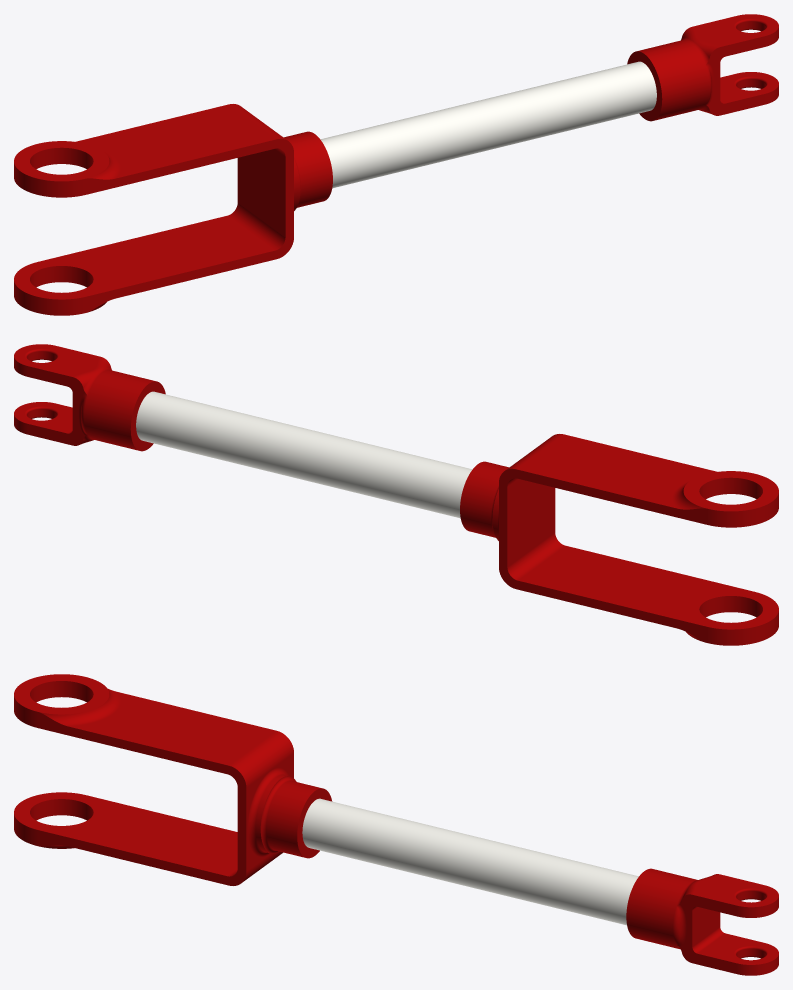
File: rocker.dae
3 views of the same model, one above another, from view 1: azimuth 30°, elevation 25°; view 2: azimuth 150°, elevation 25°; view 3: azimuth 330°, elevation 25° (orthographic).
Parts seen in each view (by area): view 1: ID6, ID9; view 2: ID6, ID9; view 3: ID6, ID9.
Part boxes in pixels (x1,y1,x2,y2): ID6: [14, 14, 778, 315]; ID9: [320, 61, 656, 188]; ID6: [14, 344, 778, 645]; ID9: [136, 391, 472, 518]; ID6: [14, 674, 778, 975]; ID9: [302, 798, 638, 925].
Bounding box in the file's own units: 0.438 × 0.048 × 0.0745.
